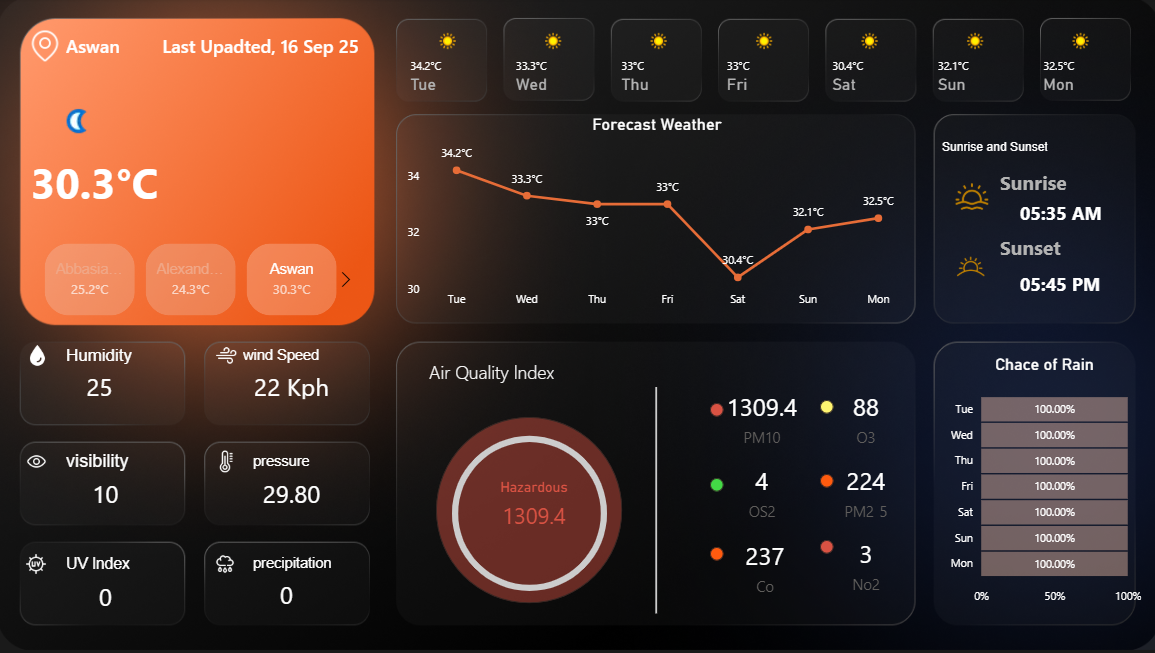

This screenshot's page, from the dashboard's own definition file:
{"tool":"powerbi","page":{"name":"Page 1","canvas":[1280,720],"ordinal":0},"visuals":[{"type":"shape","box":[483.1,460.8,204.8,204.8],"z":0},{"type":"advancedSlicerVisual","fields":{"Values":["Locations.location.name"]},"box":[27.6,265.2,371.5,89.3],"z":1000},{"type":"shape","box":[37.7,169.1,175.6,66.3],"z":2000},{"type":"shape","box":[75.4,29.9,100.2,45.5],"z":3000},{"type":"shape","box":[163.9,29.9,234.1,45.5],"z":4000},{"type":"image","box":[31.2,29.9,44.2,45.5],"z":5000},{"type":"cardVisual","fields":{"Data":["Min(Current.current.condition.icon)"]},"box":[26,75.4,110.6,108],"z":6000},{"type":"shape","box":[75.4,493,97.6,33.8],"z":7000},{"type":"image","box":[26,493,33.8,33.8],"z":8000},{"type":"shape","box":[281,493,97.6,33.8],"z":9000},{"type":"shape","box":[270.6,375.9,108,33.8],"z":10000},{"type":"shape","box":[75.4,375.9,97.6,33.8],"z":11000},{"type":"shape","box":[75.4,606.2,97.6,33.8],"z":12000},{"type":"shape","box":[281,604.9,97.6,33.8],"z":13000},{"type":"image","box":[26,375.9,35.1,33.8],"z":14000},{"type":"image","box":[231.5,375.9,39,33.8],"z":15000},{"type":"image","box":[232.8,493,37.7,33.8],"z":16000},{"type":"image","box":[234.1,606.2,32.5,32.5],"z":17000},{"type":"image","box":[26,606.2,32.5,32.5],"z":18000},{"type":"card","fields":{"Values":["Sum(Current.current.humidity)"]},"box":[52.7,410,120,35.6],"z":19000},{"type":"card","fields":{"Values":["_Measures.Wind_Speed"]},"box":[263.6,410,120,35.6],"z":20000},{"type":"card","fields":{"Values":["Sum(Current.current.pressure_in)"]},"box":[263.6,527.3,120,35.6],"z":21000},{"type":"card","fields":{"Values":["Sum(Current.current.uv)"]},"box":[59.3,640.7,120,35.6],"z":22000},{"type":"card","fields":{"Values":["Sum(Current.current.precip_mm)"]},"box":[258.4,639.3,120,35.6],"z":23000},{"type":"card","fields":{"Values":["Sum(Current.current.vis_km)"]},"box":[59.3,527.3,120,35.6],"z":24000},{"type":"advancedSlicerVisual","fields":{"Values":["Forcast_Day.Day_Name"]},"box":[436.3,25,818.6,98.9],"z":25000},{"type":"lineChart","title":"Forecast Weather","fields":{"Y":["Sum(Forcast_Day.forecast.forecastday.day.avgtemp_c)"],"Category":["Forcast_Day.Day_Name"]},"box":[446.9,129.1,558.7,221],"z":26000},{"type":"shape","box":[1039.1,141.5,171.3,42.2],"z":27000},{"type":"shape","box":[1124.8,218.5,96.8,33.5],"z":28000},{"type":"shape","box":[1124.8,295.5,96.8,34.8],"z":29000},{"type":"shape","box":[1102.5,252,73.2,43.5],"z":30000},{"type":"shape","box":[1102.5,185,77,33.5],"z":31000},{"type":"image","box":[1049.1,190,45.9,55.9],"z":32000},{"type":"image","box":[1045.4,265.7,49.7,58.4],"z":33000},{"type":"hundredPercentStackedBarChart","title":"Chace of Rain","fields":{"Y":["Sum(Forcast_Day.forecast.forecastday.day.daily_chance_of_rain)","Current.Left_value_rain"],"Category":["Forcast_Day.Day_Name"]},"box":[1039.8,392.5,223.2,283.6],"z":34000},{"type":"shape","box":[475,392.8,151.9,35.4],"z":35000},{"type":"card","title":"PM10","fields":{"Values":["Sum(Current.current.air_quality.pm10)"]},"box":[790.3,428,101.1,67],"z":36000},{"type":"card","title":"PM10","fields":{"Values":["Sum(Current.current.air_quality.co)"]},"box":[794.3,592.1,101.1,67],"z":37000},{"type":"card","title":"PM10","fields":{"Values":["Sum(Current.current.air_quality.no2)"]},"box":[904.5,589.5,101.1,67],"z":38000},{"type":"card","title":"PM10","fields":{"Values":["Sum(Current.current.air_quality.so2)"]},"box":[790.3,509.4,101.1,67],"z":39000},{"type":"card","title":"PM10","fields":{"Values":["Sum(Current.current.air_quality.pm2_5)"]},"box":[904.5,509.4,101.1,67],"z":40000},{"type":"card","title":"PM10","fields":{"Values":["Sum(Current.current.air_quality.o3)"]},"box":[904.5,428,101.1,67],"z":41000},{"type":"shape","box":[783.8,445,15,15],"z":42000},{"type":"shape","box":[783.8,527.8,15,15],"z":43000},{"type":"shape","box":[783.8,603.9,15,15],"z":44000},{"type":"shape","box":[904.5,442.4,15,15],"z":45000},{"type":"shape","box":[904.5,523.8,15,15],"z":46000},{"type":"shape","box":[904.5,596,15,15],"z":47000},{"type":"shape","box":[686.6,428,77.5,249.4],"z":48000},{"type":"card","fields":{"Values":["Sum(Current.current.air_quality.pm10)"]},"box":[539.6,527.8,101.1,67],"z":49000},{"type":"donutChart","title":"PM10","fields":{"Y":["Sum(Current.current.air_quality.pm10)","_Measures.Left_value_pm10"]},"box":[473.9,442.4,223.2,249.4],"z":50000}]}

Visuals, with their boxes in screenshot pixels (x1, y1, x2, y2), scaled from the page's 1280x720 canvas onto the 1155x653 screenshot:
shape: <box>436,418,621,604</box>
advancedSlicerVisual - Locations.location.name: <box>25,241,360,322</box>
shape: <box>34,153,192,213</box>
shape: <box>68,27,158,68</box>
shape: <box>148,27,359,68</box>
image: <box>28,27,68,68</box>
cardVisual - Min(Current.current.condition.icon): <box>23,68,123,166</box>
shape: <box>68,447,156,478</box>
image: <box>23,447,54,478</box>
shape: <box>254,447,342,478</box>
shape: <box>244,341,342,372</box>
shape: <box>68,341,156,372</box>
shape: <box>68,550,156,580</box>
shape: <box>254,549,342,579</box>
image: <box>23,341,55,372</box>
image: <box>209,341,244,372</box>
image: <box>210,447,244,478</box>
image: <box>211,550,241,579</box>
image: <box>23,550,53,579</box>
card - Sum(Current.current.humidity): <box>48,372,156,404</box>
card - _Measures.Wind_Speed: <box>238,372,346,404</box>
card - Sum(Current.current.pressure_in): <box>238,478,346,511</box>
card - Sum(Current.current.uv): <box>54,581,162,613</box>
card - Sum(Current.current.precip_mm): <box>233,580,341,612</box>
card - Sum(Current.current.vis_km): <box>54,478,162,511</box>
advancedSlicerVisual - Forcast_Day.Day_Name: <box>394,23,1132,112</box>
"Forecast Weather" lineChart: <box>403,117,907,318</box>
shape: <box>938,128,1092,167</box>
shape: <box>1015,198,1102,229</box>
shape: <box>1015,268,1102,300</box>
shape: <box>995,229,1061,268</box>
shape: <box>995,168,1064,198</box>
image: <box>947,172,988,223</box>
image: <box>943,241,988,294</box>
"Chace of Rain" hundredPercentStackedBarChart: <box>938,356,1140,613</box>
shape: <box>429,356,566,388</box>
"PM10" card: <box>713,388,804,449</box>
"PM10" card: <box>717,537,808,598</box>
"PM10" card: <box>816,535,907,595</box>
"PM10" card: <box>713,462,804,523</box>
"PM10" card: <box>816,462,907,523</box>
"PM10" card: <box>816,388,907,449</box>
shape: <box>707,404,721,417</box>
shape: <box>707,479,721,492</box>
shape: <box>707,548,721,561</box>
shape: <box>816,401,830,415</box>
shape: <box>816,475,830,489</box>
shape: <box>816,541,830,554</box>
shape: <box>620,388,689,614</box>
card - Sum(Current.current.air_quality.pm10): <box>487,479,578,539</box>
"PM10" donutChart: <box>428,401,629,627</box>
